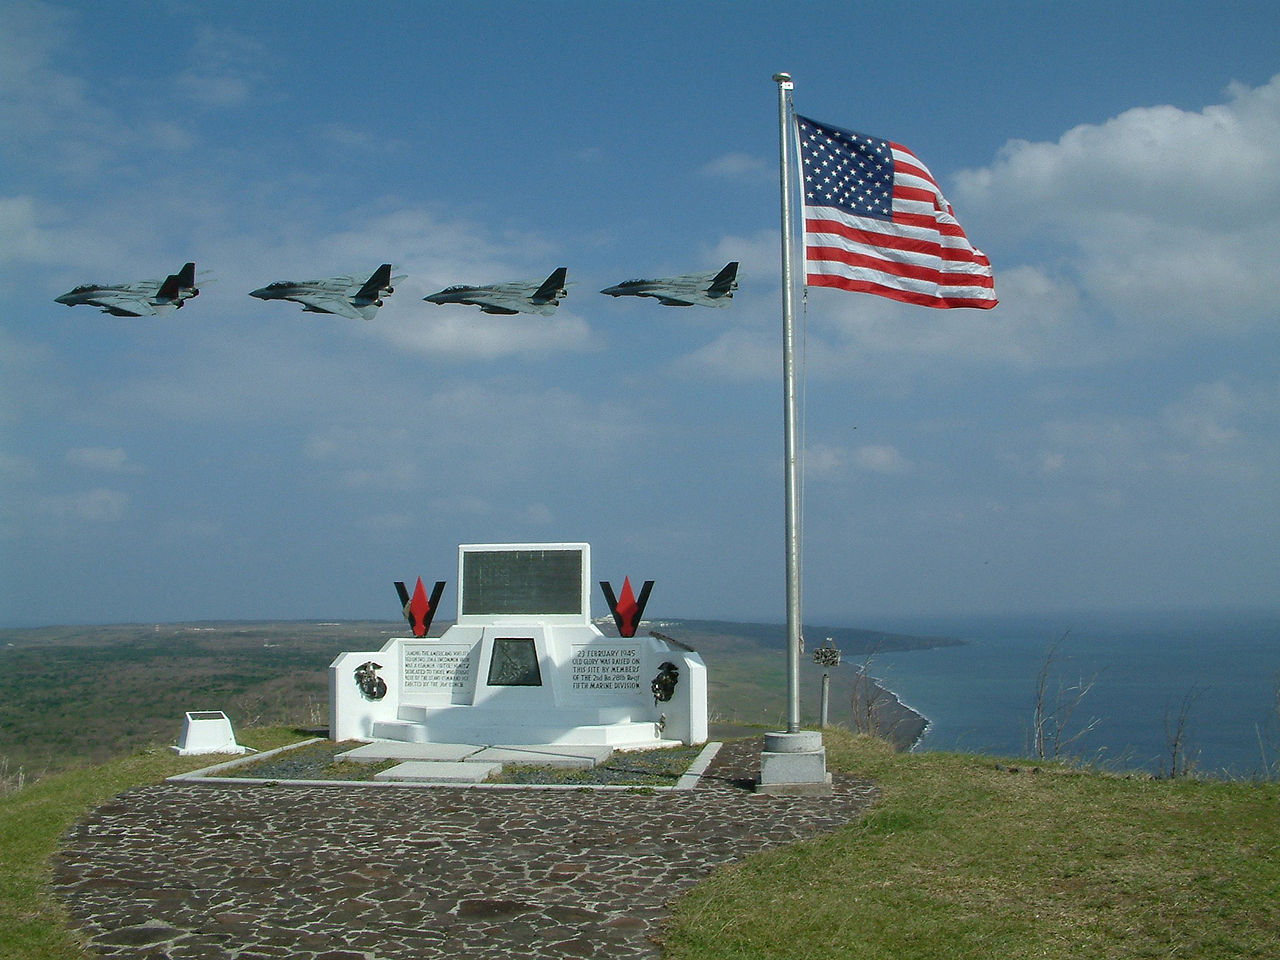F14: (247, 262, 409, 321), (52, 261, 218, 318), (420, 266, 581, 317), (598, 260, 750, 311)
